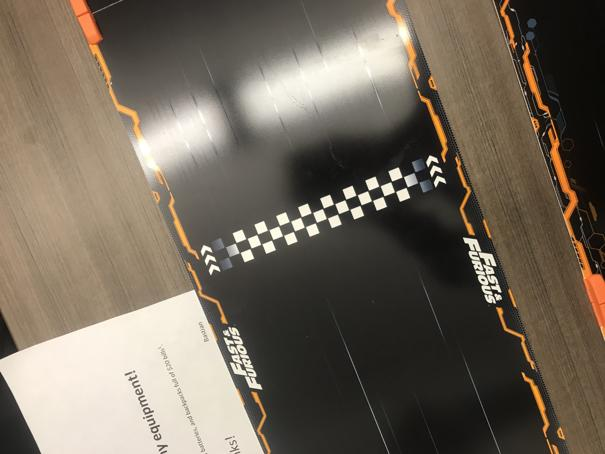Finish Line: (199, 152, 448, 279)
